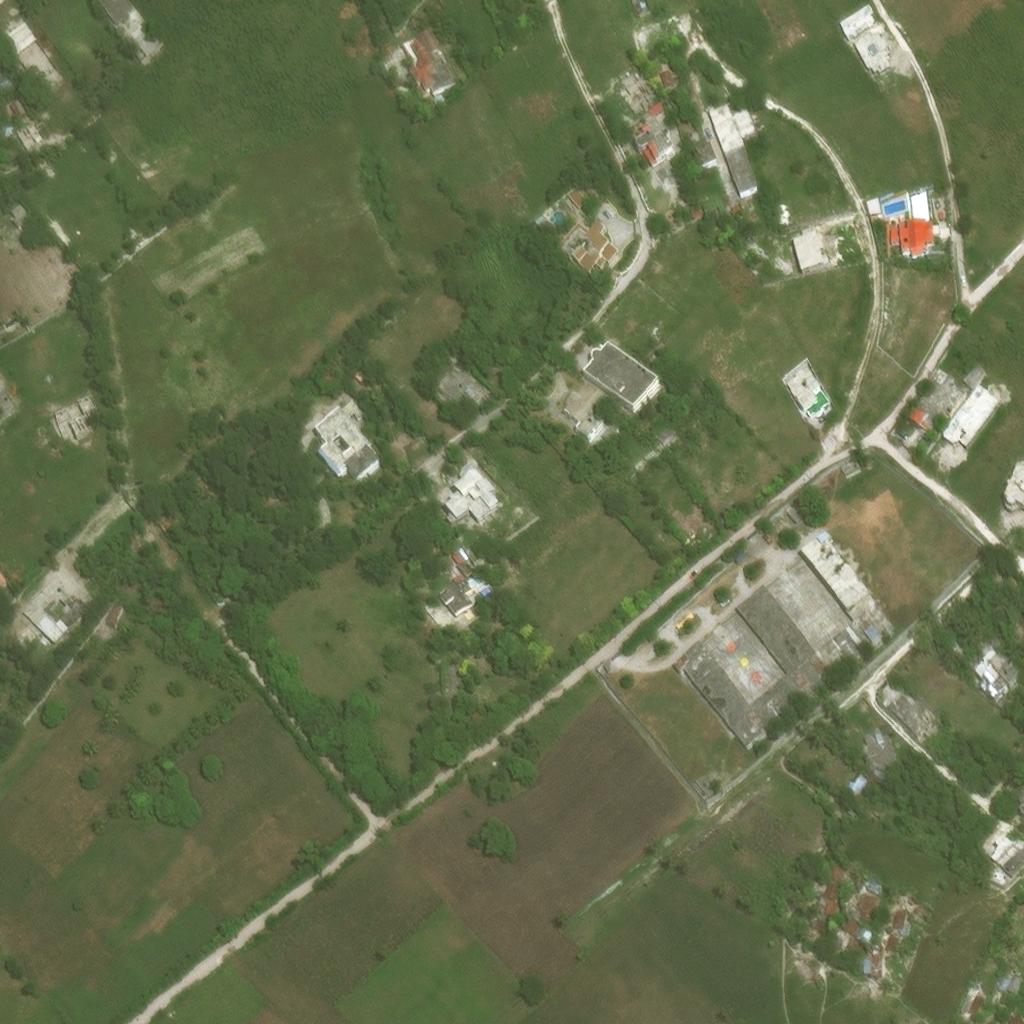major_damage: (862, 875, 881, 892), (860, 903, 877, 922)
minor_damage: (673, 537, 894, 751), (309, 397, 379, 474), (18, 575, 88, 644), (403, 27, 456, 106), (909, 367, 968, 436), (435, 362, 489, 411), (965, 630, 1016, 680), (713, 119, 751, 169), (880, 676, 928, 715), (731, 161, 767, 213), (858, 717, 893, 752), (99, 0, 136, 24), (698, 160, 726, 188), (718, 506, 745, 530), (635, 7, 658, 34), (964, 362, 986, 389), (335, 386, 360, 408), (1004, 858, 1023, 886), (103, 598, 123, 624), (694, 773, 715, 797), (845, 934, 867, 954), (994, 882, 1015, 901), (841, 919, 863, 937), (821, 877, 840, 897), (964, 1004, 982, 1023), (867, 960, 885, 977), (822, 896, 838, 915), (665, 82, 680, 102), (894, 911, 908, 932), (1003, 988, 1018, 1006), (976, 1007, 992, 1023), (1013, 988, 1023, 1009)
no_damage: (587, 353, 671, 434), (556, 222, 624, 282), (638, 133, 686, 181), (566, 392, 610, 439), (790, 375, 829, 419), (902, 226, 937, 264), (445, 591, 479, 627), (658, 438, 684, 464), (638, 459, 664, 483), (0, 388, 17, 424), (708, 211, 734, 233), (6, 88, 27, 112), (586, 435, 607, 456), (568, 186, 588, 207), (470, 582, 489, 602), (842, 460, 863, 477), (871, 205, 886, 225), (915, 907, 931, 923), (887, 938, 901, 955), (531, 208, 545, 222), (816, 916, 831, 929), (0, 66, 9, 82), (0, 570, 8, 588), (739, 219, 750, 232), (886, 913, 896, 926), (849, 910, 859, 921)
